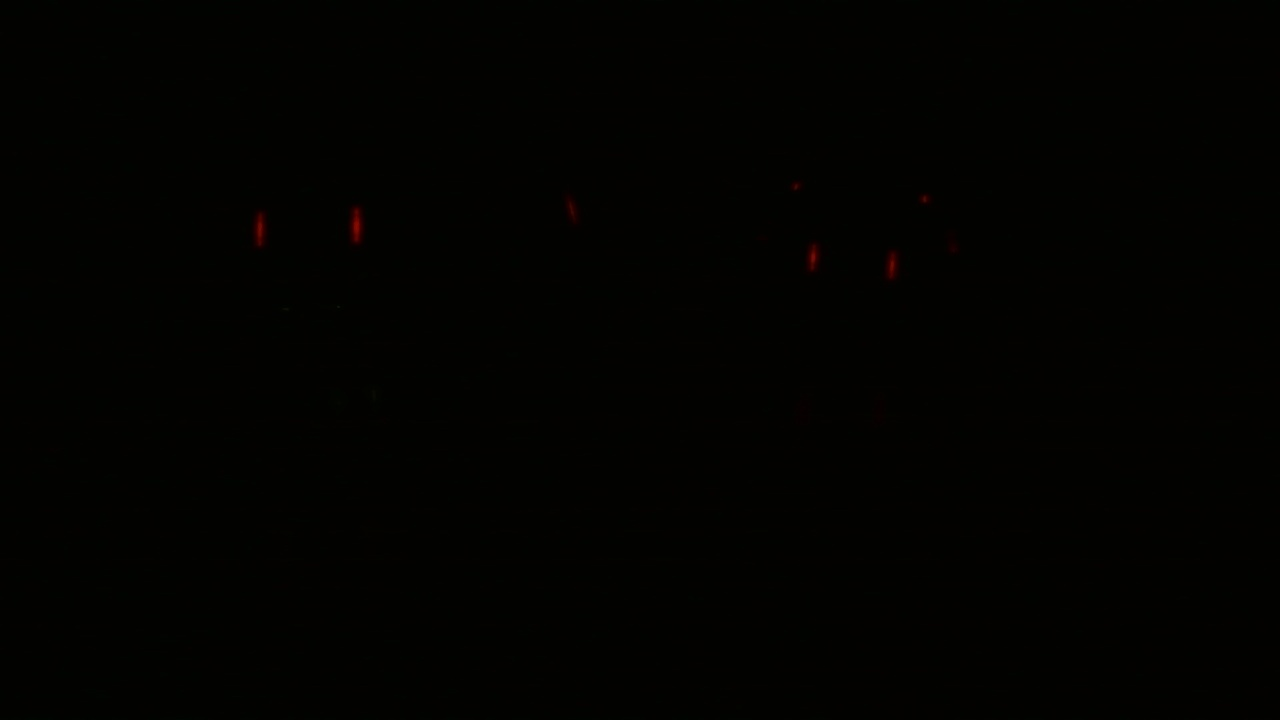pair1: (249, 200, 371, 255)
pair2: (798, 237, 910, 289)
